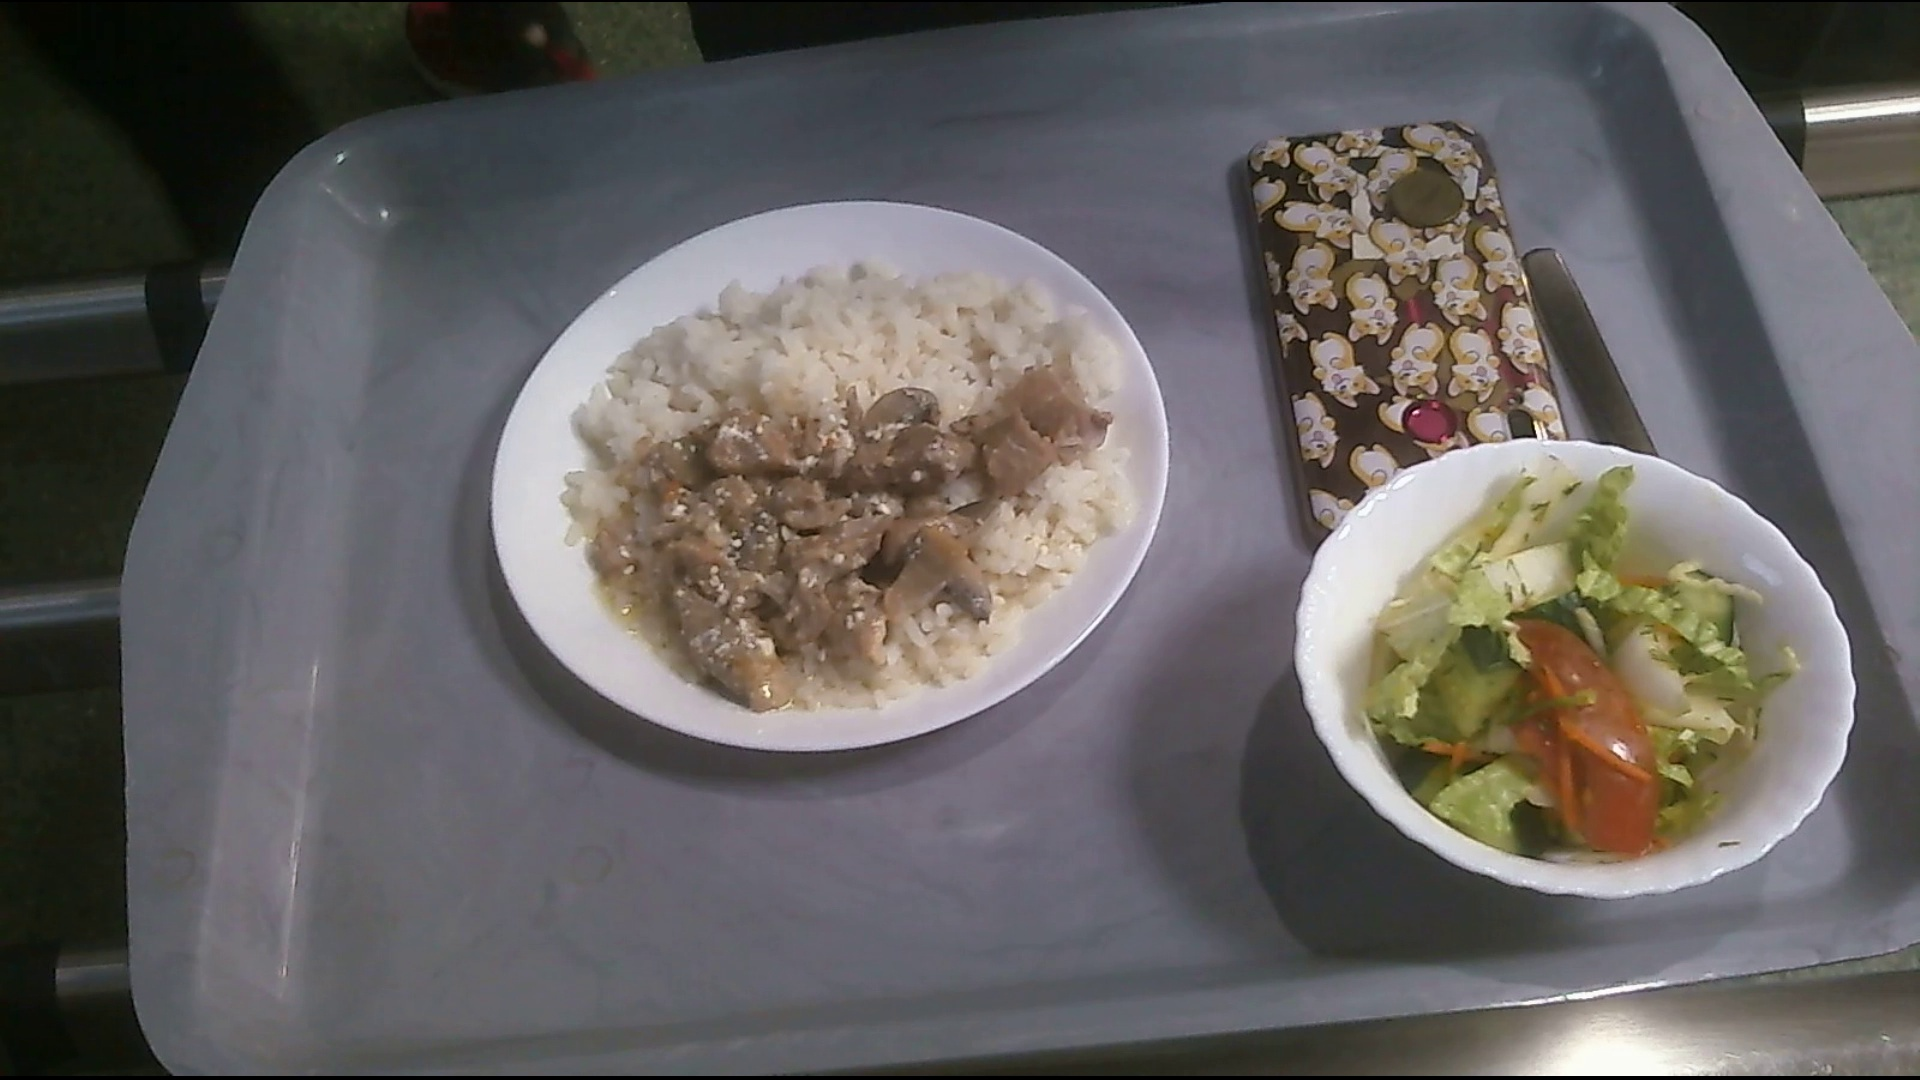bowl: (1294, 442, 1859, 895)
other: (1240, 127, 1568, 545)
plate: (484, 199, 1180, 760)
